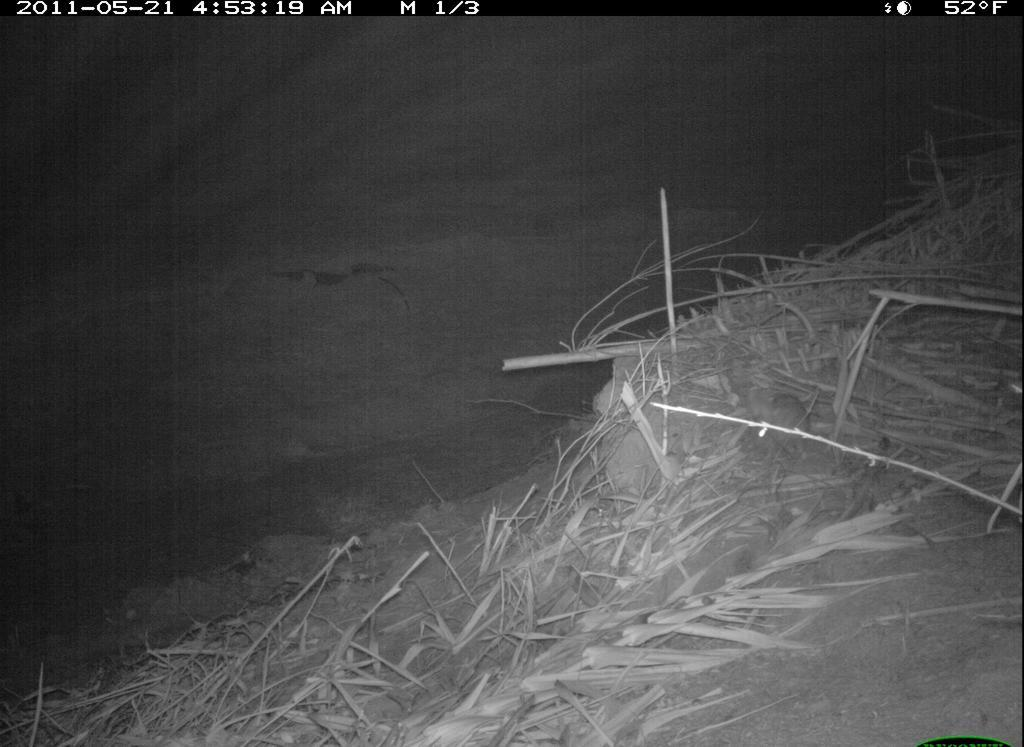rabbit: (737, 377, 830, 463)
